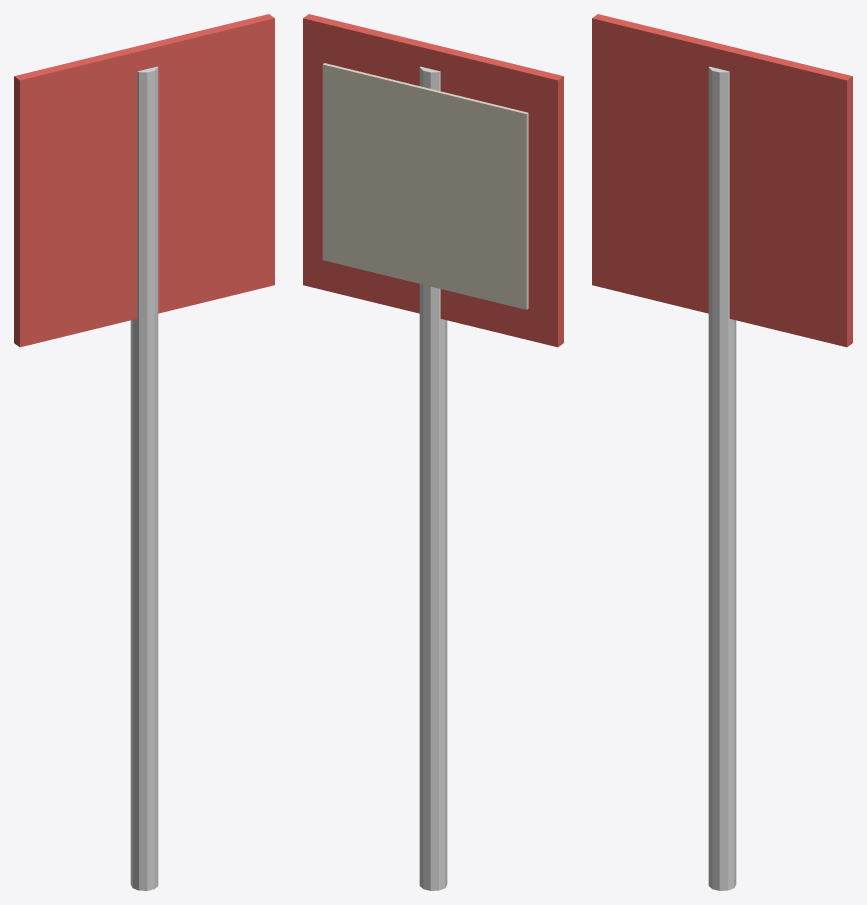
File: Sgnstop_0000026.fbx
The picture shows the model from 3 angles, left to right: view 1: azimuth 30°, elevation 25°; view 2: azimuth 150°, elevation 25°; view 3: azimuth 330°, elevation 25°; orthographic projection.
Visible parts, largest first — view 1: Sgnstop_0000026; view 2: Sgnstop_0000026; view 3: Sgnstop_0000026.
Boxes of the visible parts, x1,y1,x2,y2 form: Sgnstop_0000026: [14, 14, 274, 890]; Sgnstop_0000026: [303, 14, 563, 890]; Sgnstop_0000026: [592, 14, 852, 890].
Bounding box in the file's own units: 75 × 7.83 × 236.
